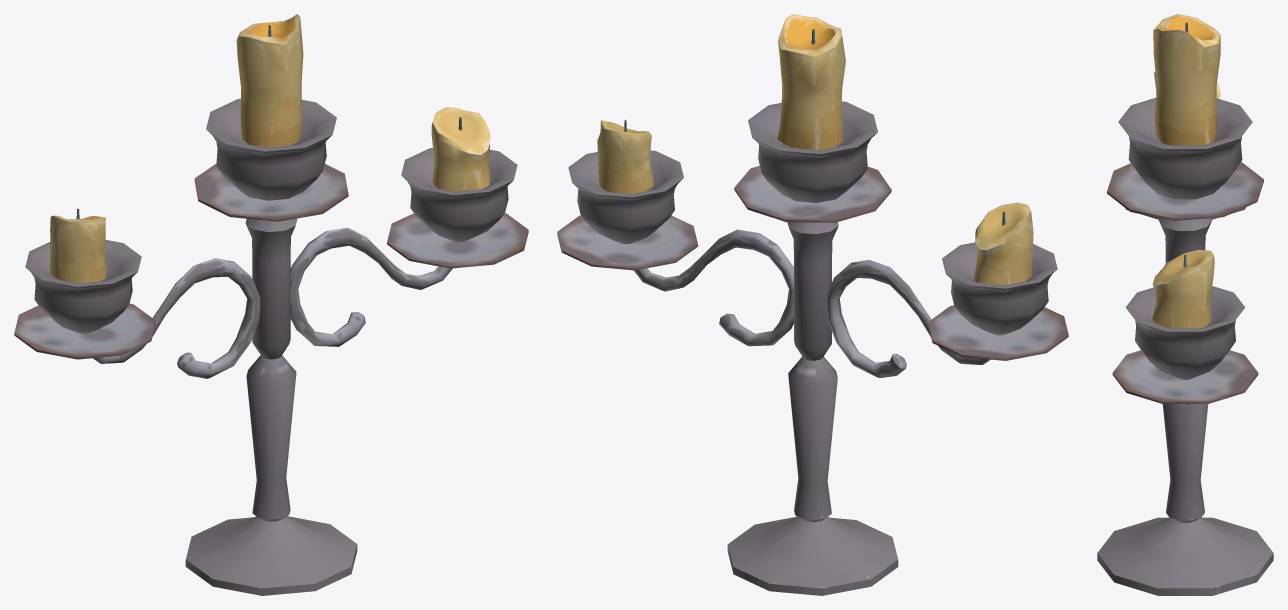
File: CandleStick_Triple.gltf
The picture shows the model from 3 angles, left to right: view 1: azimuth 30°, elevation 25°; view 2: azimuth 150°, elevation 25°; view 3: azimuth 270°, elevation 25°; orthographic projection.
Parts seen in each view (by area): view 1: CandleStick_Triple; view 2: CandleStick_Triple; view 3: CandleStick_Triple.
Boxes of the visible parts, x1=… form: CandleStick_Triple: x1=14, y1=14, x2=528, y2=595; CandleStick_Triple: x1=557, y1=14, x2=1068, y2=595; CandleStick_Triple: x1=1097, y1=14, x2=1273, y2=595.
Bounding box in the file's own units: 0.4423 × 0.4633 × 0.1364.
2 materials, 2 textured.
